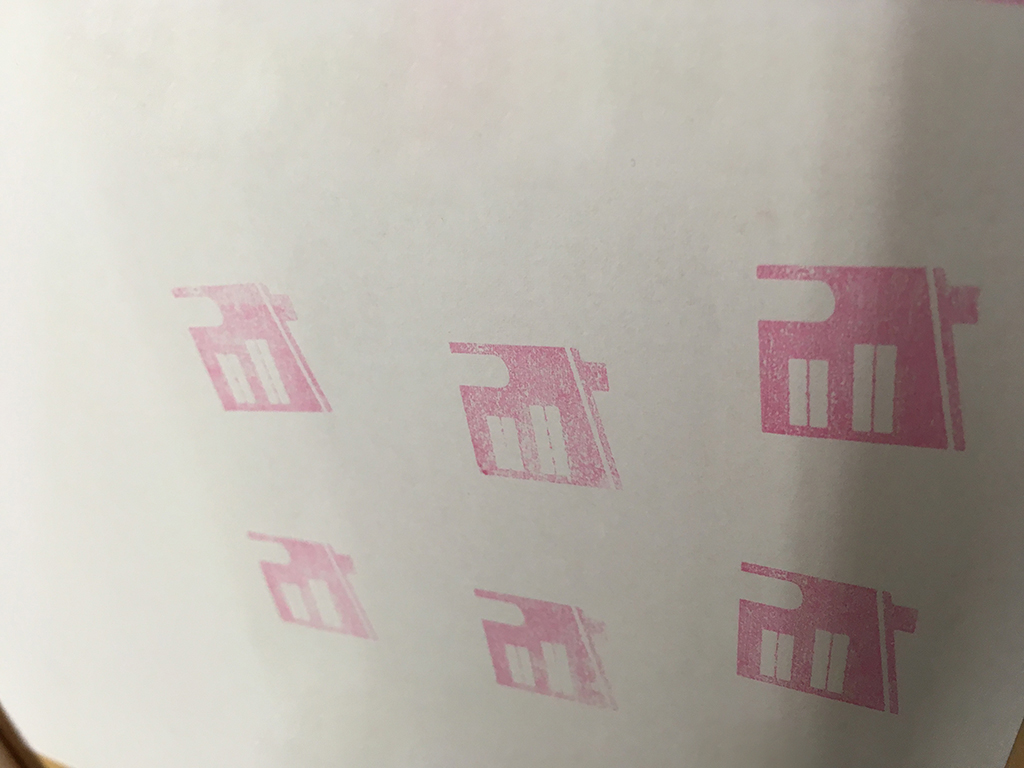house: (739, 247, 995, 460), (713, 546, 928, 726), (442, 326, 635, 513), (145, 268, 345, 426), (457, 572, 630, 722), (221, 518, 387, 647)
